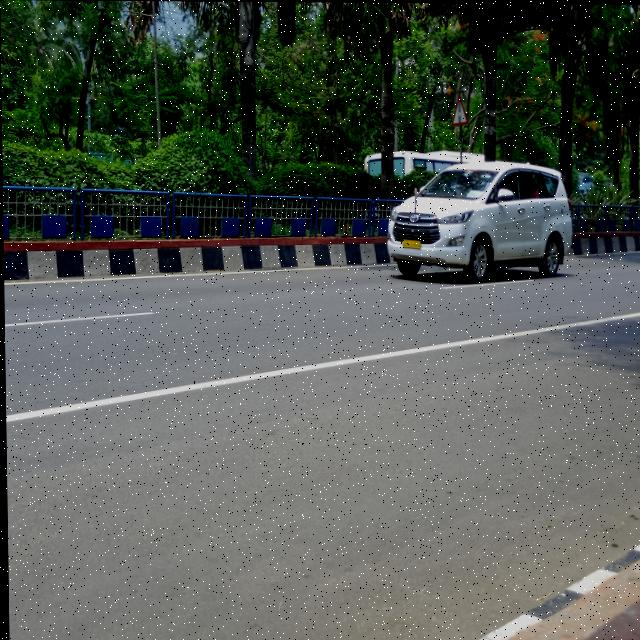car: (377, 157, 582, 283)
